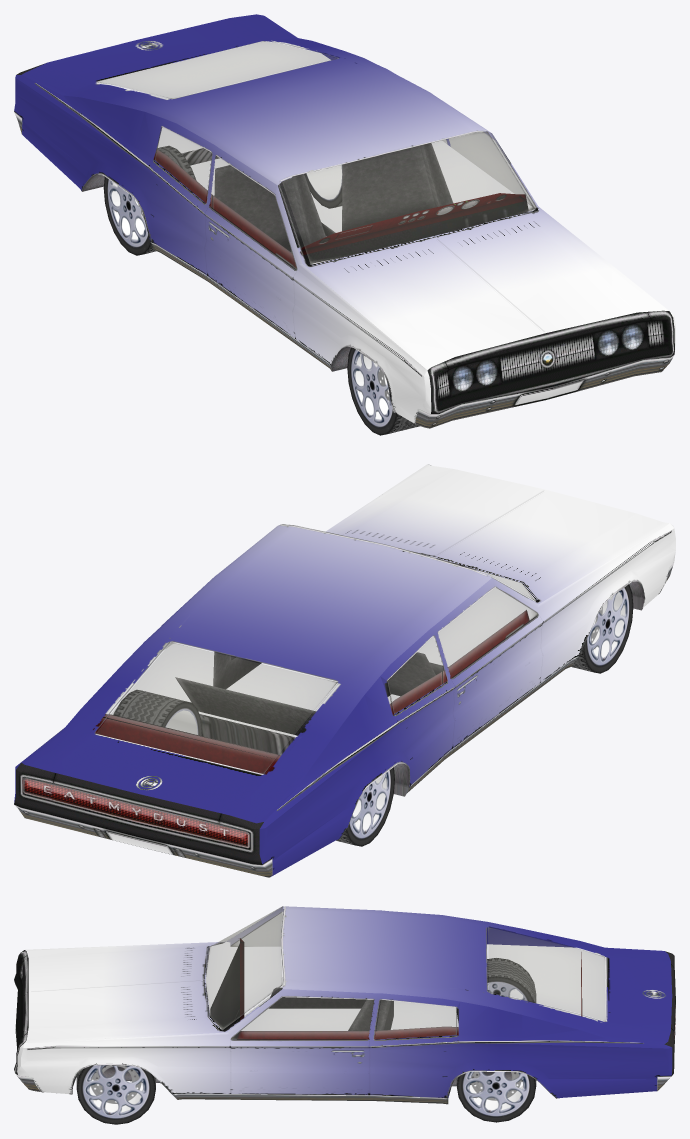
Rendered from br_Charge_592c47522794.glb.
3 views of the same model, one above another, from view 1: azimuth 30°, elevation 25°; view 2: azimuth 150°, elevation 25°; view 3: azimuth 270°, elevation 25° (orthographic). The views are drawn at different scales.
Visible parts, largest first — view 1: BODY, INTERIOR, WHEEL_0, WHEEL_2, WHEEL_3; view 2: BODY, INTERIOR, WHEEL_0, WHEEL_3, WHEEL_2; view 3: BODY, INTERIOR, WHEEL_1, WHEEL_3, WHEEL_2.
Boxes of the visible parts, x1=… form: BODY: x1=14, y1=14, x2=675, y2=428; INTERIOR: x1=154, y1=143, x2=528, y2=267; WHEEL_0: x1=347, y1=347, x2=419, y2=435; WHEEL_2: x1=103, y1=146, x2=196, y2=255; WHEEL_3: x1=304, y1=165, x2=342, y2=208; BODY: x1=14, y1=464, x2=675, y2=877; INTERIOR: x1=93, y1=610, x2=529, y2=774; WHEEL_0: x1=571, y1=584, x2=633, y2=673; WHEEL_3: x1=113, y1=690, x2=202, y2=735; WHEEL_2: x1=336, y1=767, x2=394, y2=846; BODY: x1=14, y1=906, x2=675, y2=1104; INTERIOR: x1=210, y1=938, x2=582, y2=1039; WHEEL_1: x1=76, y1=1065, x2=155, y2=1124; WHEEL_3: x1=456, y1=1071, x2=536, y2=1122; WHEEL_2: x1=456, y1=958, x2=536, y2=1022.
Bounding box in the file's own units: 2.06 × 1.29 × 5.66.
Materials: 21 (21 with a texture image).
